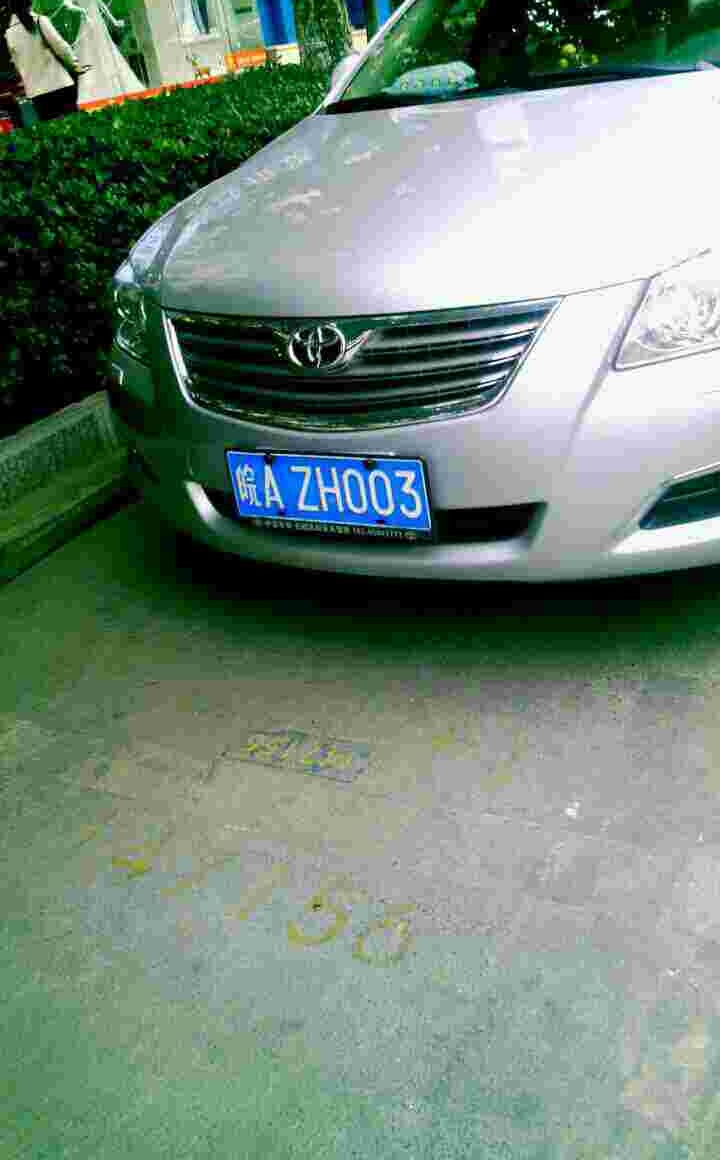license_plate: (226, 446, 437, 531)
